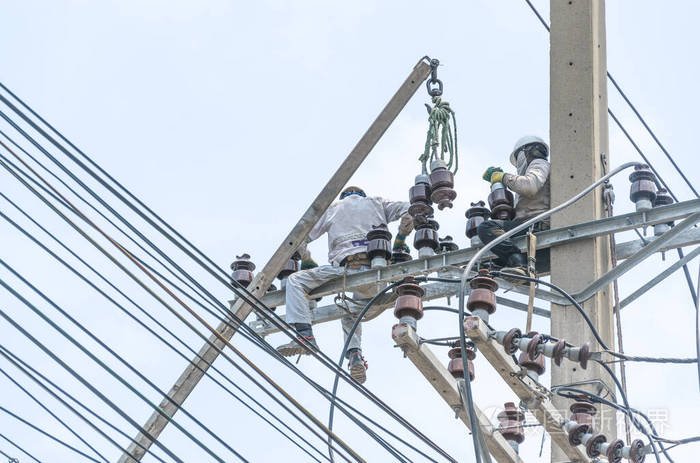insulator: (499, 329, 592, 369), (568, 424, 646, 463)
